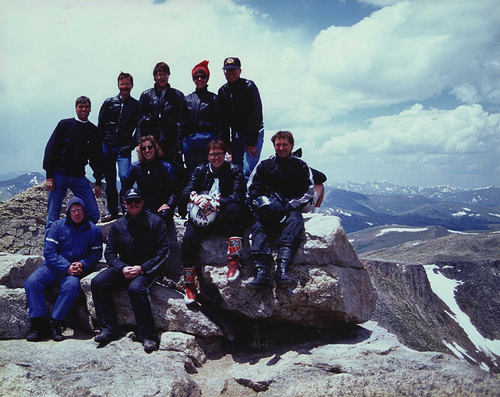without_mask: (272, 134, 294, 160), (206, 144, 228, 169), (67, 202, 88, 226), (137, 140, 158, 162), (123, 194, 144, 215), (191, 69, 211, 91), (73, 98, 93, 120), (117, 75, 135, 97), (222, 64, 242, 82), (152, 69, 171, 87)
